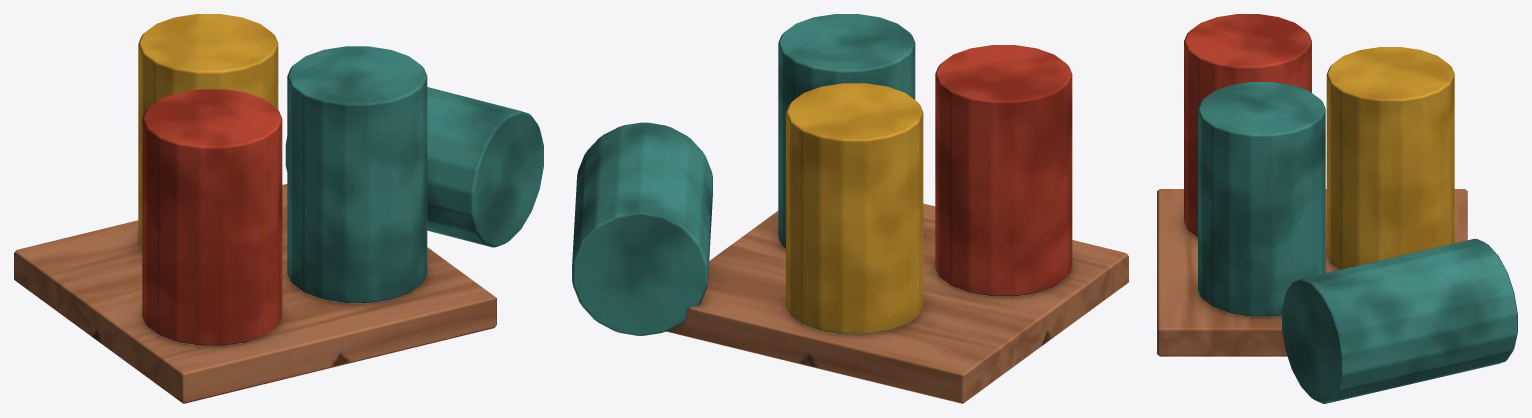
The model's file is barrel_cluster.glb.
3 views of the same model, side by side, from view 1: azimuth 30°, elevation 25°; view 2: azimuth 150°, elevation 25°; view 3: azimuth 270°, elevation 25° (orthographic). The views are drawn at different scales.
Parts seen in each view (by area): view 1: BarrelCluster; view 2: BarrelCluster; view 3: BarrelCluster.
Part boxes in pixels (bbox=[...]): BarrelCluster: bbox=[14, 14, 543, 403]; BarrelCluster: bbox=[572, 14, 1128, 403]; BarrelCluster: bbox=[1157, 14, 1517, 403].
Size of the model in its own units: 2.12 by 1.02 by 1.57.
Materials: 1 (1 with a texture image).
